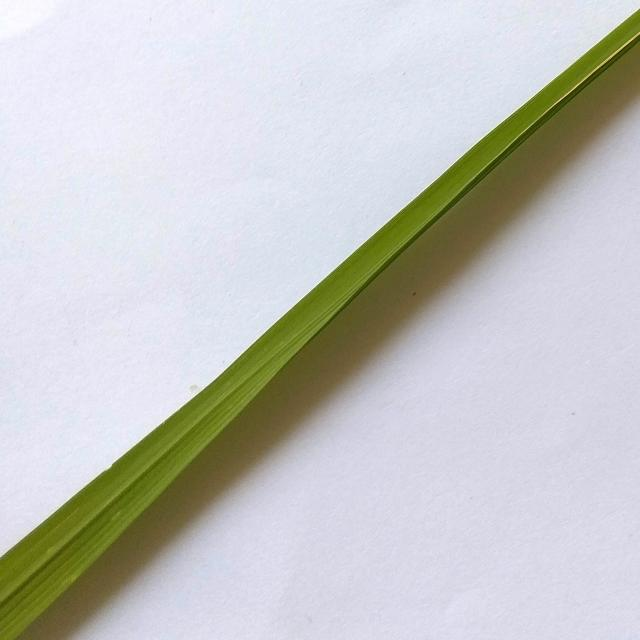Rice_Healthy: (0, 10, 640, 640)
